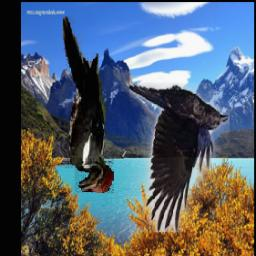Crow: (129, 84, 230, 233)
Woodpecker: (63, 18, 114, 194)
